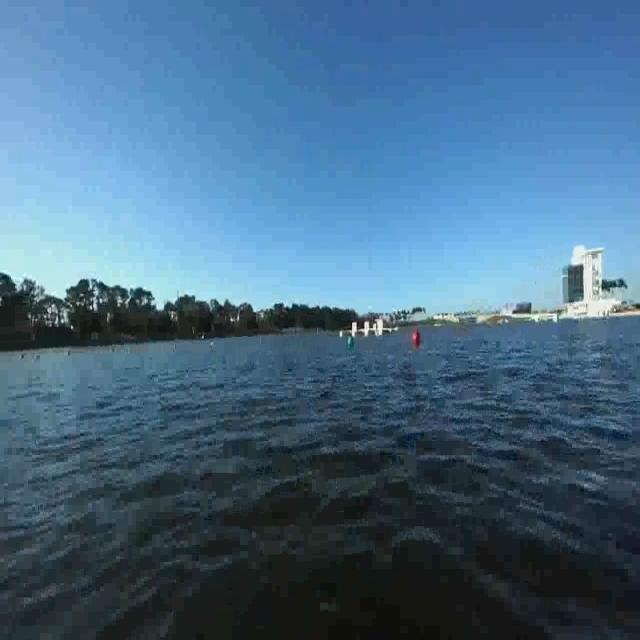green-buoy: (347, 337, 354, 350)
red-buoy: (412, 328, 422, 347)
